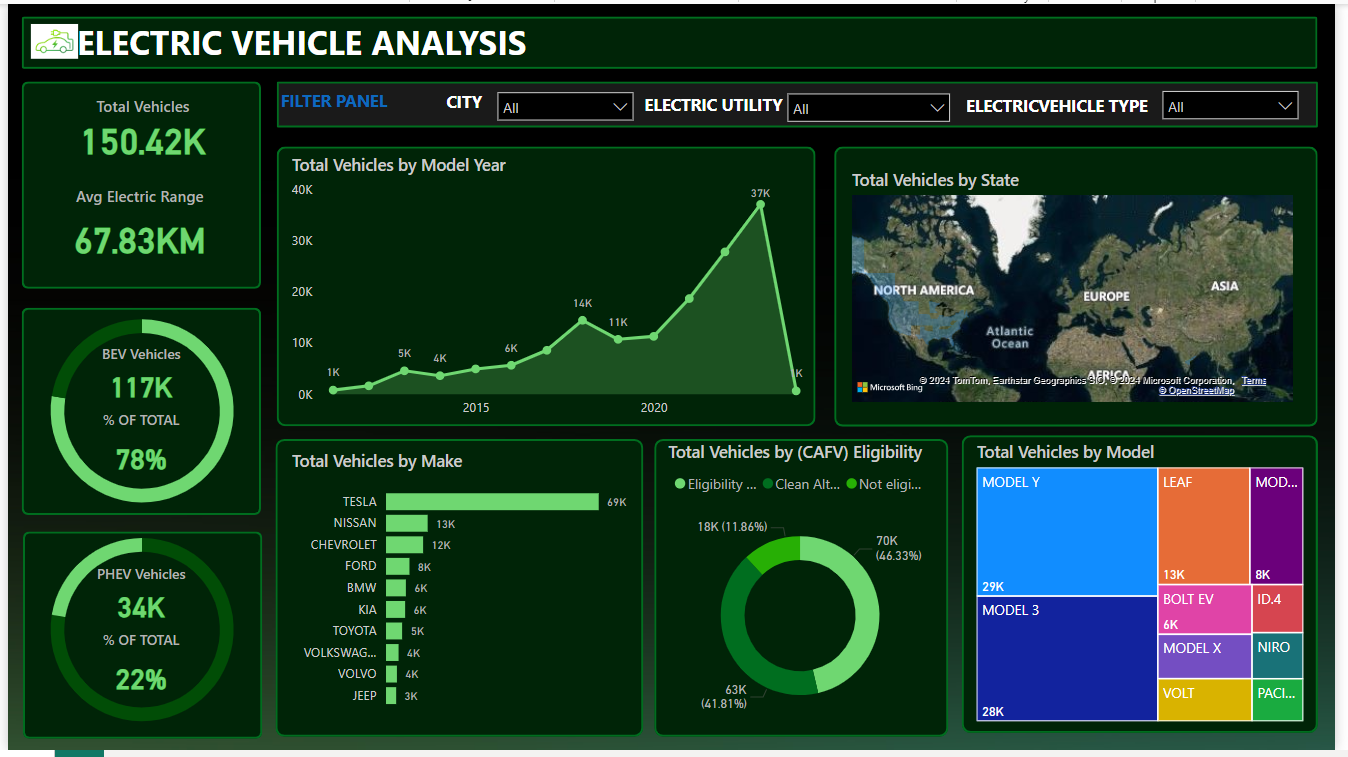

The dashboard page shown, as its layout file describes it:
{"tool":"powerbi","page":{"name":"Page 1","canvas":[1280,720],"ordinal":0},"visuals":[{"type":"shape","box":[13.6,12.3,1250.6,50.6],"z":0},{"type":"textbox","box":[61.7,9.9,498.8,53.1],"z":1000},{"type":"shape","box":[13.6,75.3,230.9,200],"z":2000},{"type":"card","title":"Total Vehicles","fields":{"Values":["Electric_Vehicle_Population_Data.Total Vehicles"]},"box":[29.6,87.7,200,64.2],"z":3000},{"type":"card","title":"Avg Electric Range","fields":{"Values":["Electric_Vehicle_Population_Data.Average Range"]},"box":[25.9,175.3,203.7,82.7],"z":4000},{"type":"shape","box":[13.6,292.6,230.9,200],"z":5000},{"type":"shape","box":[14.8,508.6,230.9,200],"z":6000},{"type":"donutChart","fields":{"Category":["Electric_Vehicle_Population_Data.Electric Vehicle Type"],"Y":["Electric_Vehicle_Population_Data.Total Vehicles"]},"box":[0,277.8,259.3,230.9],"z":7000},{"type":"card","title":"BEV Vehicles","fields":{"Values":["Electric_Vehicle_Population_Data.BEV Vehicles"]},"box":[46.9,328.4,163,64.2],"z":8000},{"type":"card","title":"% OF TOTAL","fields":{"Values":["Electric_Vehicle_Population_Data.% BEV"]},"box":[46.9,392.6,163,74.1],"z":9000},{"type":"donutChart","fields":{"Category":["Electric_Vehicle_Population_Data.Electric Vehicle Type"],"Y":["Electric_Vehicle_Population_Data.Total Vehicles"]},"box":[0,488.9,259.3,230.9],"z":10000},{"type":"card","title":"PHEV Vehicles","fields":{"Values":["Electric_Vehicle_Population_Data.PHEV Vehicles"]},"box":[46.9,540.7,163,64.2],"z":11000},{"type":"card","title":"% OF TOTAL","fields":{"Values":["Electric_Vehicle_Population_Data.% OF PHEV"]},"box":[46.9,604.9,163,74.1],"z":12000},{"type":"shape","box":[259.3,75.3,1004.9,44.4],"z":13000},{"type":"shape","box":[259.3,137,520,270],"z":14000},{"type":"areaChart","fields":{"Category":["Electric_Vehicle_Population_Data.Model Year"],"Y":["Electric_Vehicle_Population_Data.Total Vehicles"]},"box":[269.1,143.2,509.9,264.2],"z":15000},{"type":"shape","box":[797.5,137,466.7,270.4],"z":16000},{"type":"filledMap","fields":{"Category":["Electric_Vehicle_Population_Data.State"]},"box":[810,157.5,435,231.2],"z":17000},{"type":"shape","box":[258.8,420,355,287.5],"z":18000},{"type":"barChart","fields":{"Category":["Electric_Vehicle_Population_Data.Make"],"Y":["Electric_Vehicle_Population_Data.Total Vehicles"]},"box":[268.8,430,333.8,260],"z":19000},{"type":"shape","box":[623.8,420,283.8,287.5],"z":20000},{"type":"donutChart","title":"Total Vehicles  by  (CAFV) Eligibility","fields":{"Category":["Electric_Vehicle_Population_Data.Clean Alternative Fuel Vehicle (CAFV) Eligibility"],"Y":["Electric_Vehicle_Population_Data.Total Vehicles"]},"box":[632.5,421.2,265,287.5],"z":21000},{"type":"shape","box":[920,416.2,343.8,287.5],"z":22000},{"type":"treemap","fields":{"Group":["Electric_Vehicle_Population_Data.Model"],"Values":["Electric_Vehicle_Population_Data.Total Vehicles"]},"box":[930,421.2,325,276.2],"z":23000},{"type":"textbox","box":[258.8,77.5,131.2,38.8],"z":24000},{"type":"slicer","fields":{"Values":["Electric_Vehicle_Population_Data.City"]},"box":[462.5,75,151.2,46.2],"z":25000},{"type":"textbox","box":[412.5,78.5,55,40],"z":26000},{"type":"textbox","box":[602.5,81.2,157.5,32.5],"z":27000},{"type":"slicer","fields":{"Values":["Electric_Vehicle_Population_Data.Electric Utility"]},"box":[742.5,76.2,177.5,46.2],"z":28000},{"type":"slicer","fields":{"Values":["Electric_Vehicle_Population_Data.Electric Vehicle Type"]},"box":[1103.8,73.8,151.2,46.2],"z":29000},{"type":"textbox","box":[907.5,82.5,210,32.5],"z":30000},{"type":"image","box":[13.8,15,62.5,43.8],"z":31000}]}

Visuals, with their boxes in screenshot pixels (x1, y1, x2, y2), scaled from the page's 1280x720 canvas onto the 1348x757 screenshot:
shape: [14,13,1331,66]
textbox: [65,10,590,66]
shape: [14,79,257,289]
"Total Vehicles" card: [31,92,242,160]
"Avg Electric Range" card: [27,184,242,271]
shape: [14,308,257,518]
shape: [16,535,259,745]
donutChart - Electric_Vehicle_Population_Data.Electric Vehicle Type x Electric_Vehicle_Population_Data.Total Vehicles: [0,292,273,535]
"BEV Vehicles" card: [49,345,221,413]
"% OF TOTAL" card: [49,413,221,491]
donutChart - Electric_Vehicle_Population_Data.Electric Vehicle Type x Electric_Vehicle_Population_Data.Total Vehicles: [0,514,273,756]
"PHEV Vehicles" card: [49,568,221,636]
"% OF TOTAL" card: [49,636,221,714]
shape: [273,79,1331,126]
shape: [273,144,821,428]
areaChart - Electric_Vehicle_Population_Data.Model Year x Electric_Vehicle_Population_Data.Total Vehicles: [283,151,820,428]
shape: [840,144,1331,428]
filledMap - Electric_Vehicle_Population_Data.State: [853,166,1311,409]
shape: [273,442,646,744]
barChart - Electric_Vehicle_Population_Data.Make x Electric_Vehicle_Population_Data.Total Vehicles: [283,452,635,725]
shape: [657,442,956,744]
"Total Vehicles  by  (CAFV) Eligibility" donutChart: [666,443,945,745]
shape: [969,438,1331,740]
treemap - Electric_Vehicle_Population_Data.Model x Electric_Vehicle_Population_Data.Total Vehicles: [979,443,1322,733]
textbox: [273,81,411,122]
slicer - Electric_Vehicle_Population_Data.City: [487,79,646,127]
textbox: [434,83,492,125]
textbox: [635,85,800,120]
slicer - Electric_Vehicle_Population_Data.Electric Utility: [782,80,969,129]
slicer - Electric_Vehicle_Population_Data.Electric Vehicle Type: [1162,78,1322,126]
textbox: [956,87,1177,121]
image: [15,16,80,62]
